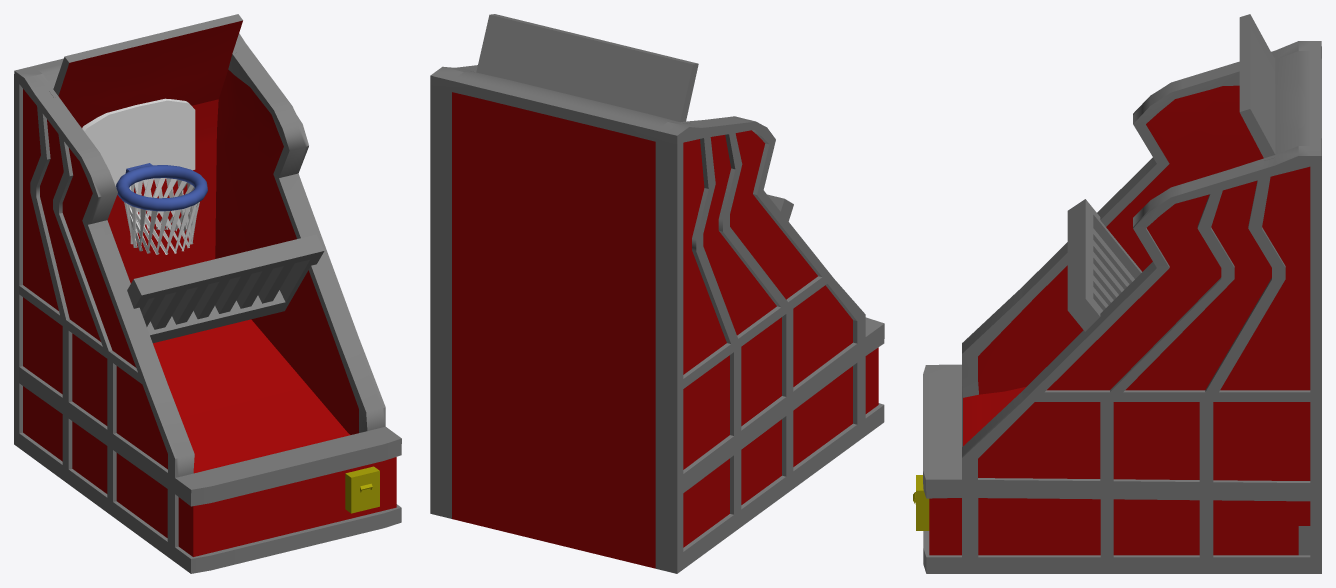
Rendered from Basketball Machine.fbx.
The picture shows the model from 3 angles, left to right: view 1: azimuth 30°, elevation 25°; view 2: azimuth 150°, elevation 25°; view 3: azimuth 270°, elevation 25°; orthographic projection. The views are drawn at different scales.
Visible parts, largest first — view 1: pCube4, pCube3, pCube2, pTorus1, pCube5; view 2: pCube4; view 3: pCube4, pCube3, pCube5.
Part boxes in pixels (x1=…): pCube4: x1=14, y1=14, x2=401, y2=573; pCube3: x1=127, y1=234, x2=324, y2=343; pCube2: x1=82, y1=98, x2=195, y2=187; pTorus1: x1=116, y1=163, x2=207, y2=254; pCube5: x1=345, y1=466, x2=379, y2=513; pCube4: x1=430, y1=14, x2=884, y2=573; pCube4: x1=923, y1=14, x2=1321, y2=573; pCube3: x1=1067, y1=199, x2=1141, y2=331; pCube5: x1=913, y1=475, x2=929, y2=530.
Bounding box in the file's own units: 3.71 × 6.8 × 5.54.
